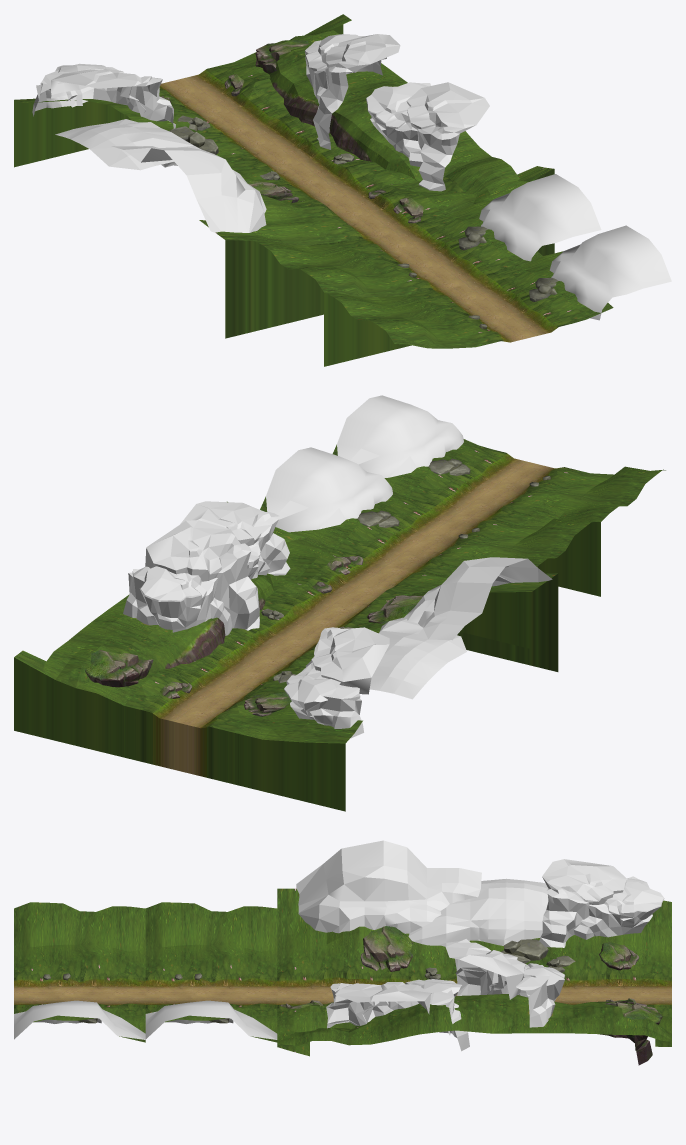
3 renders of one model, top to bottom at view 1: azimuth 30°, elevation 25°; view 2: azimuth 150°, elevation 25°; view 3: azimuth 270°, elevation 25°, orthographic. The views are drawn at different scales.
Parts seen in each view (by area): view 1: 2, 3, straight1; view 2: 2, 3, straight1; view 3: 2, straight1, 3.
Part boxes in pixels (x1=…): 2: x1=14, y1=14, x2=554, y2=338; 3: x1=324, y1=225, x2=671, y2=366; straight1: x1=254, y1=174, x2=601, y2=296; 2: x1=14, y1=501, x2=558, y2=811; 3: x1=332, y1=395, x2=665, y2=596; straight1: x1=260, y1=447, x2=594, y2=648; 2: x1=277, y1=840, x2=671, y2=1065; straight1: x1=145, y1=902, x2=277, y2=1042; 3: x1=14, y1=902, x2=145, y2=1042.
Size of the model in its own units: 50449 by 21920 by 90000.
